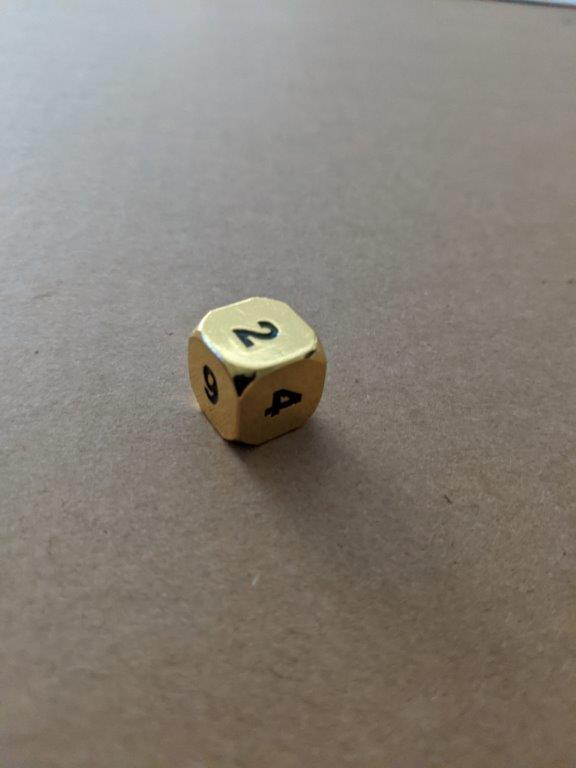d6-2: (186, 294, 328, 448)
